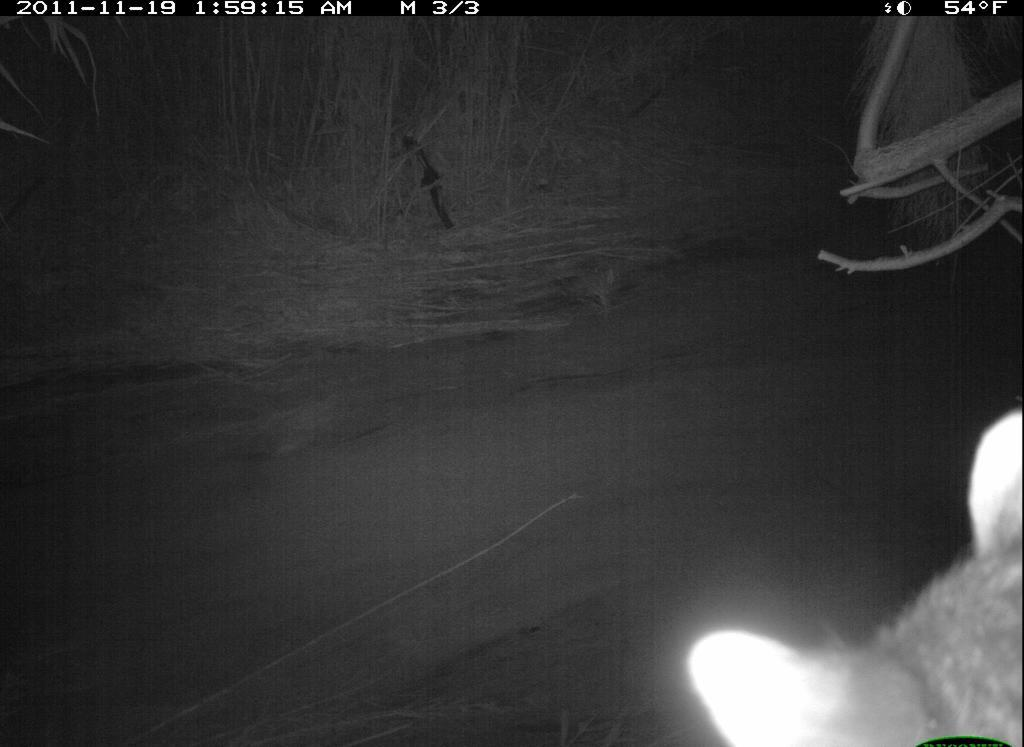raccoon: (678, 397, 1023, 747)
